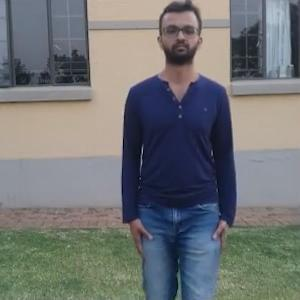follow: (121, 12, 235, 289)
